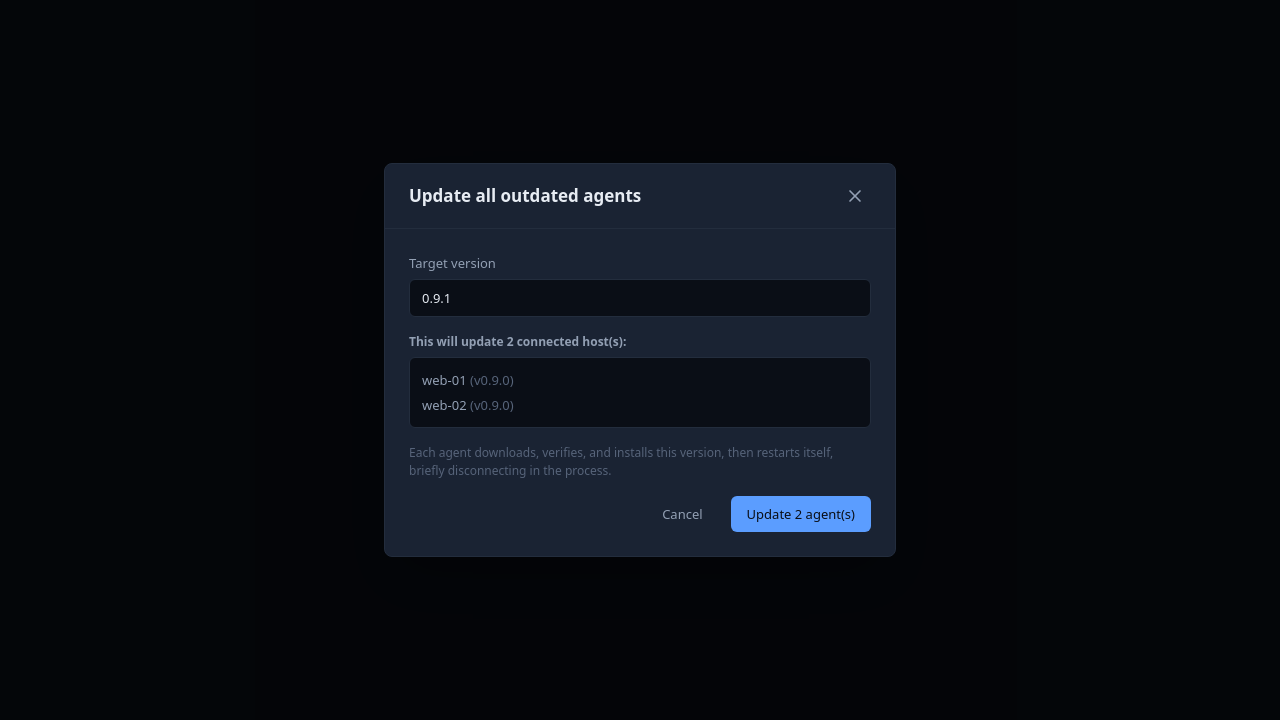
UpdateAllModal › reports partial failures without hiding the successes
Step 1. Click the button "Update 2 agent(s)" → (801, 514), box [731, 496, 871, 532]
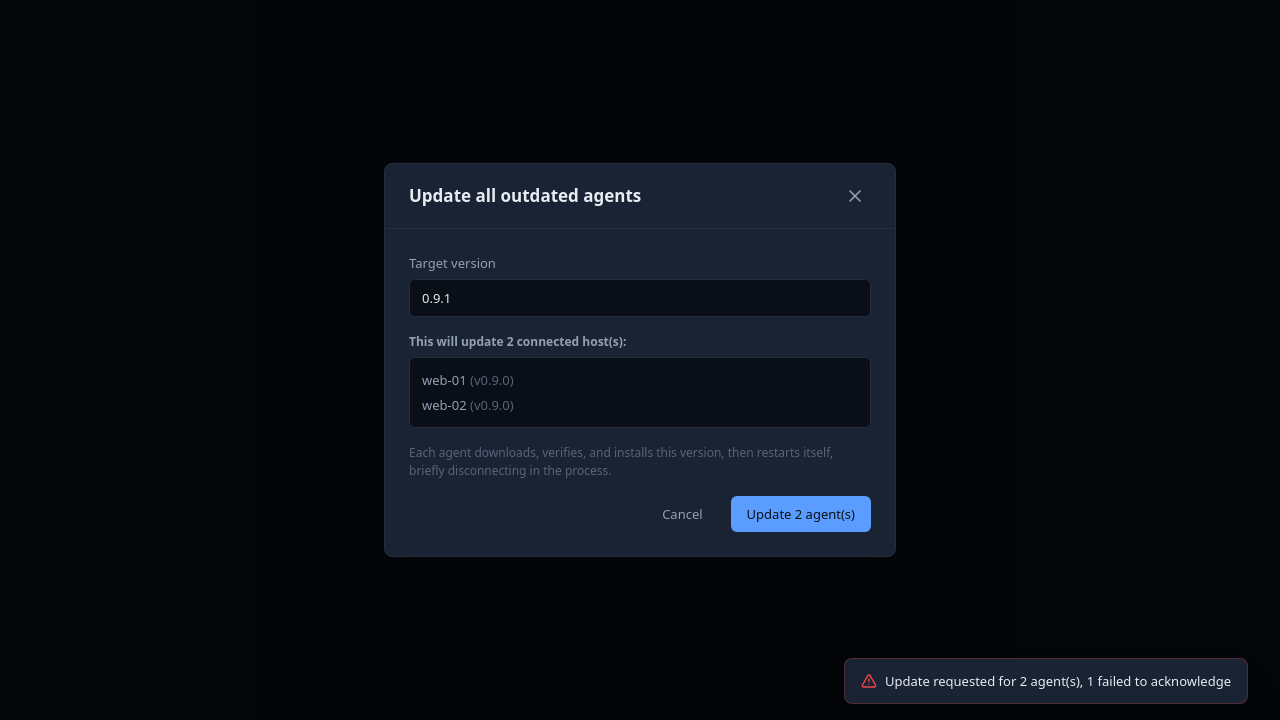
Expected: the text "Update requested for 2 agent(s), 1 failed to acknowledge" is shown, [844, 658, 1248, 704]
